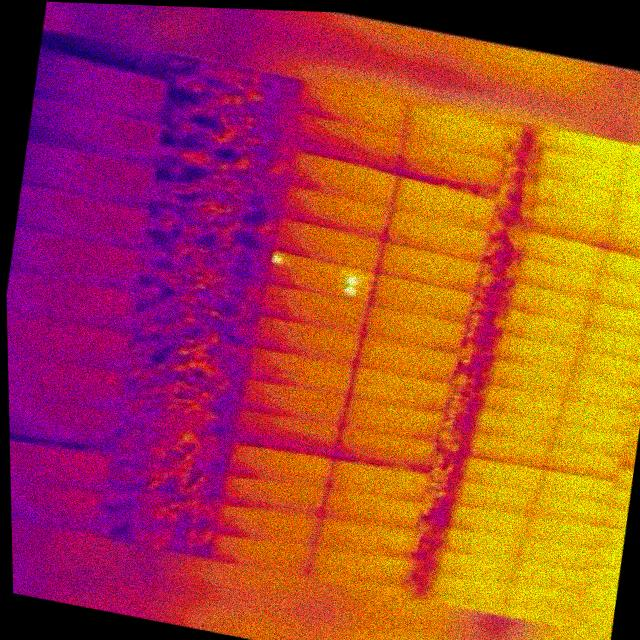Hotspot: (259, 248, 381, 309)
Normal: (242, 311, 368, 373), (274, 182, 395, 243), (344, 361, 455, 420)
Shadow: (26, 94, 170, 173), (14, 176, 156, 255), (9, 221, 148, 297), (20, 140, 164, 213), (32, 52, 172, 126), (7, 301, 137, 379), (9, 384, 124, 463), (9, 424, 120, 504), (8, 347, 130, 417), (10, 467, 111, 541)
